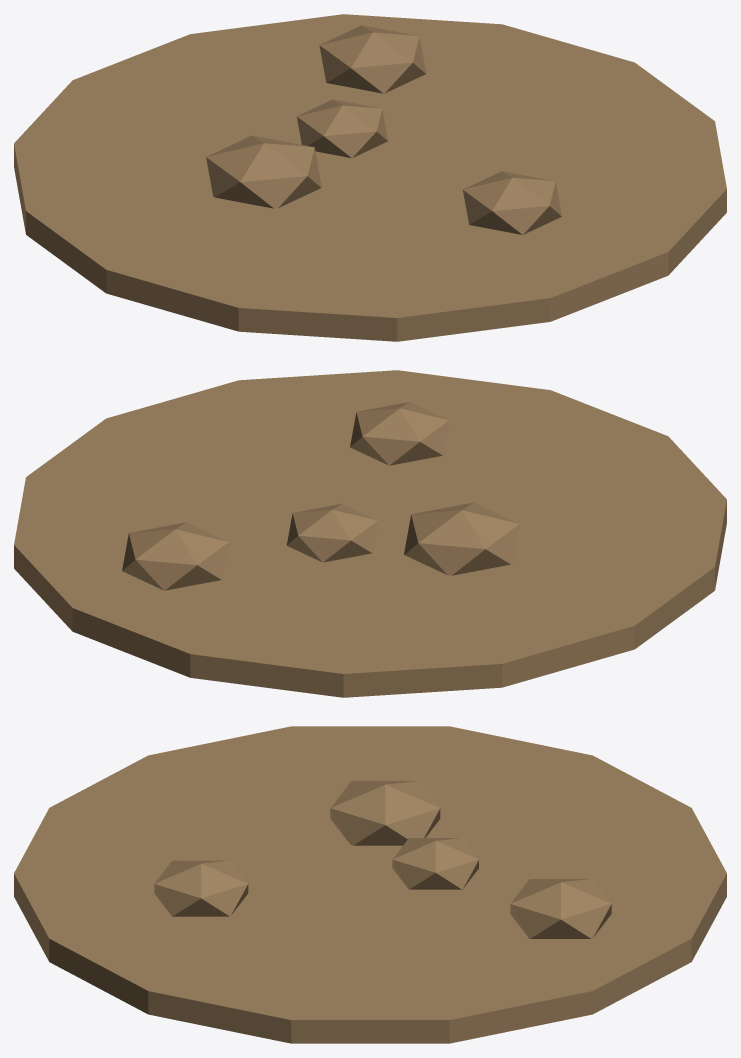
File: bowl_grime.glb
3 renders of one model, top to bottom at view 1: azimuth 30°, elevation 25°; view 2: azimuth 150°, elevation 25°; view 3: azimuth 270°, elevation 25°, orthographic.
Visible parts, largest first — view 1: BowlGrime; view 2: BowlGrime; view 3: BowlGrime.
Boxes of the visible parts, left/top/right/bottom form: BowlGrime: left=14, top=14, right=726, bottom=341; BowlGrime: left=14, top=370, right=726, bottom=697; BowlGrime: left=14, top=726, right=726, bottom=1043.
Size of the model in its own units: 0.1072 by 0.011 by 0.11.
